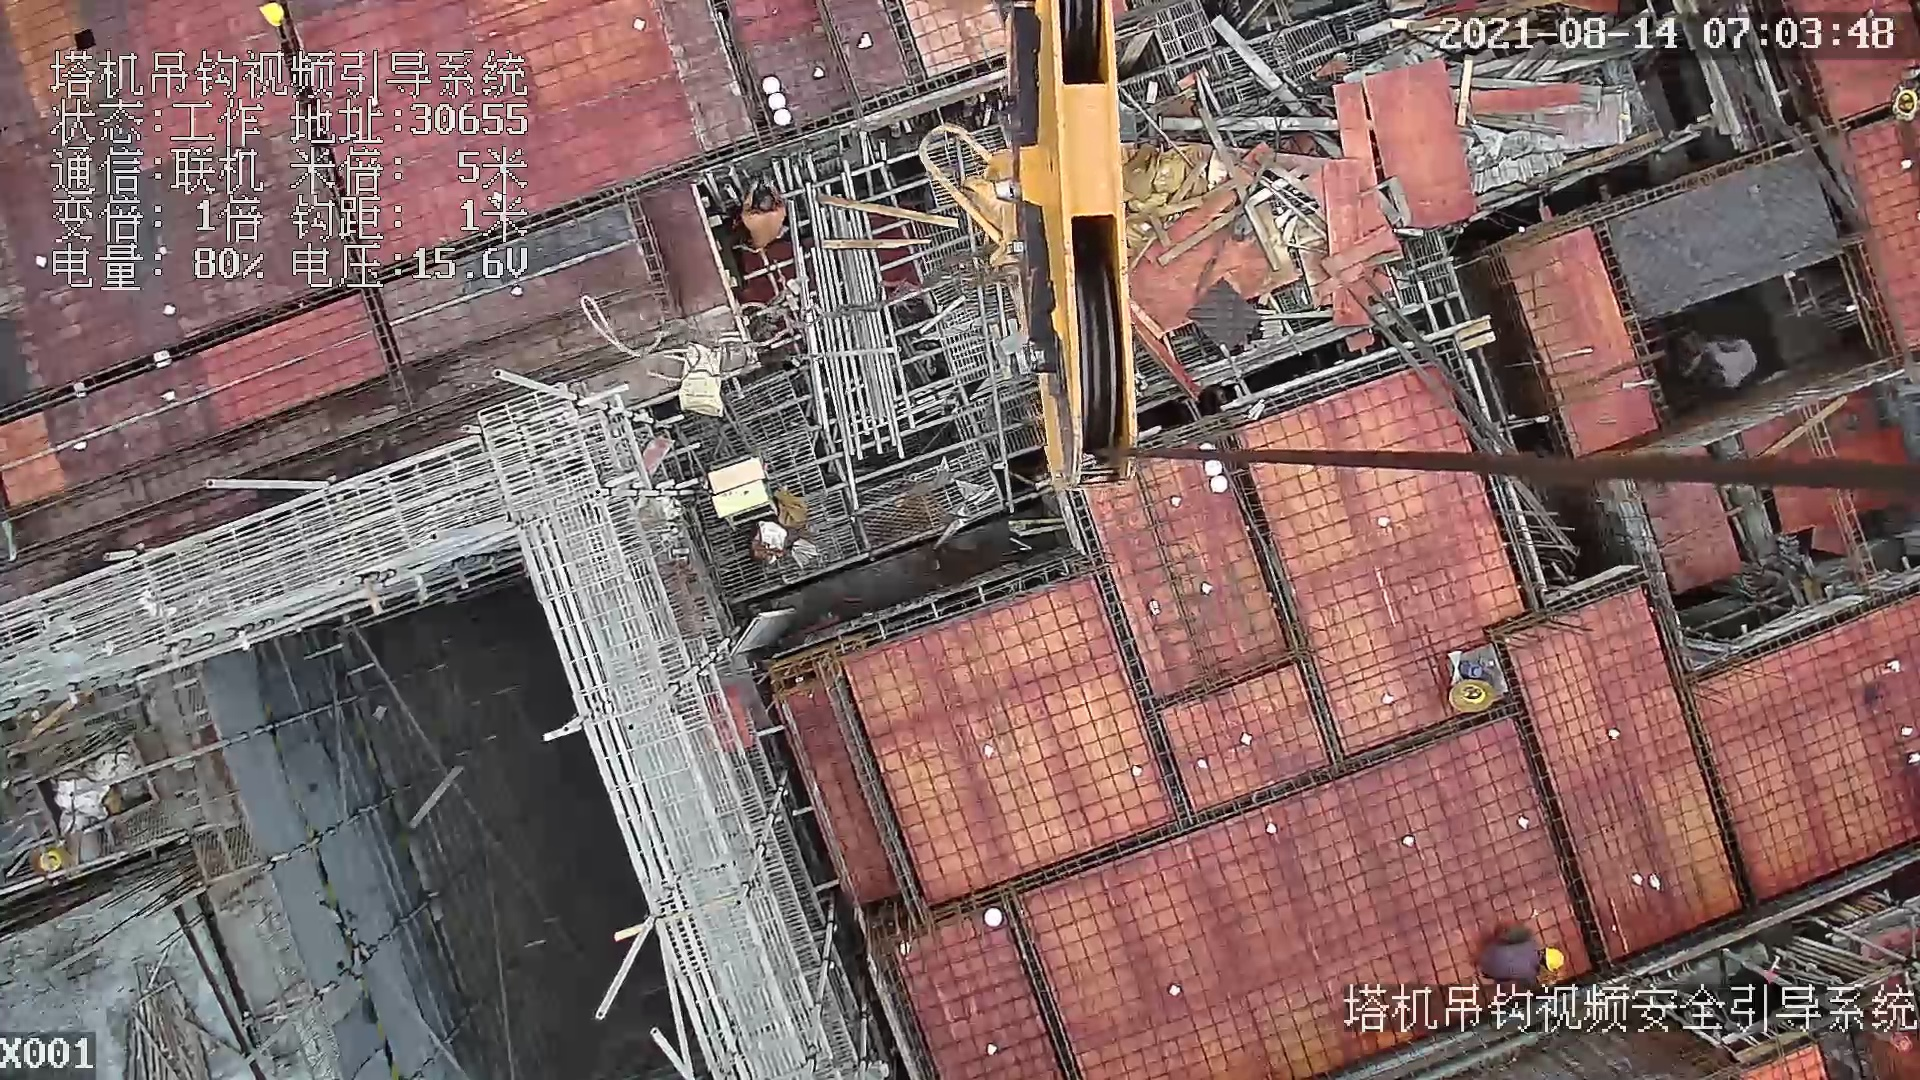helmet: (251, 1, 292, 32), (1543, 943, 1565, 978)
hook: (918, 1, 1150, 487)
person: (1470, 923, 1569, 976), (1690, 332, 1762, 392), (736, 178, 792, 247)
